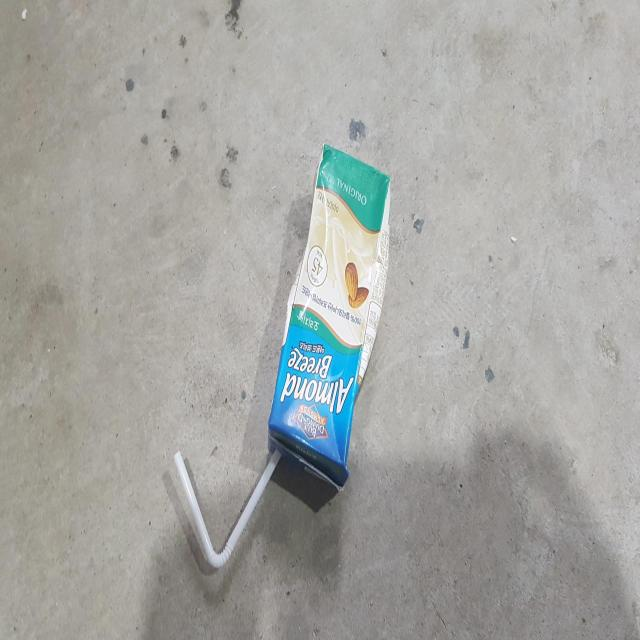paperpack: (269, 143, 390, 487)
